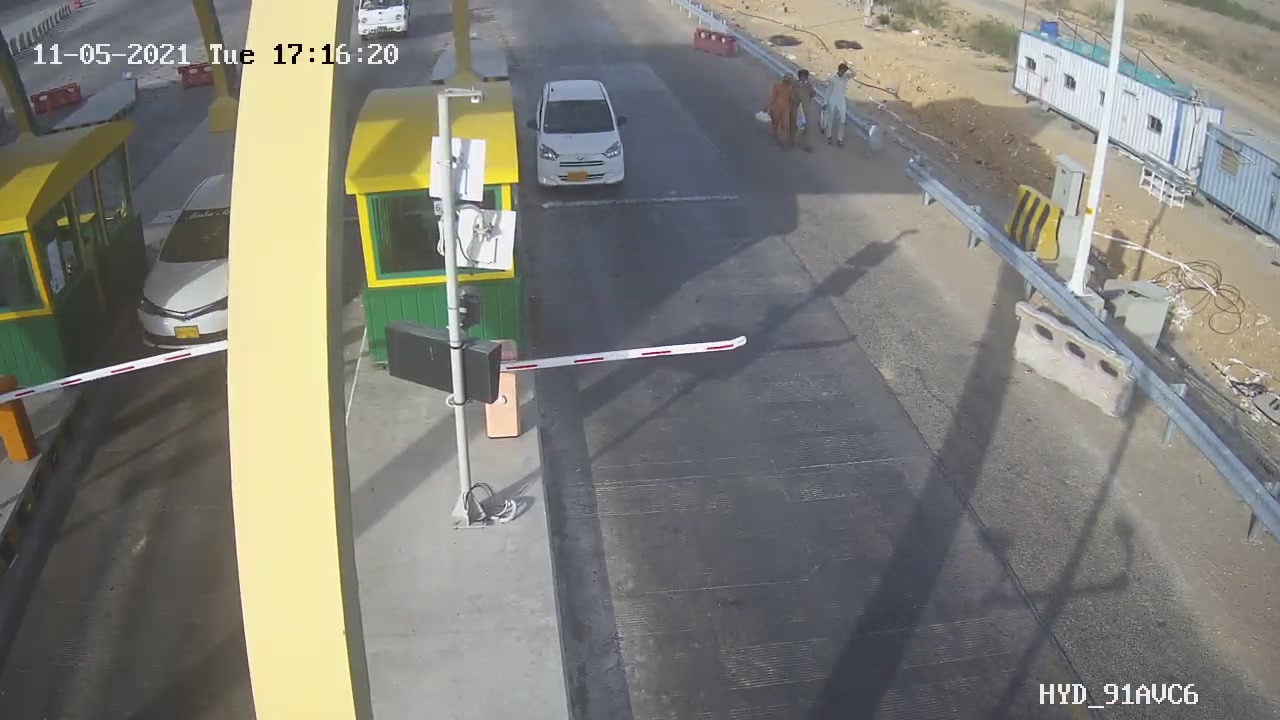F1: (516, 64, 646, 211)
